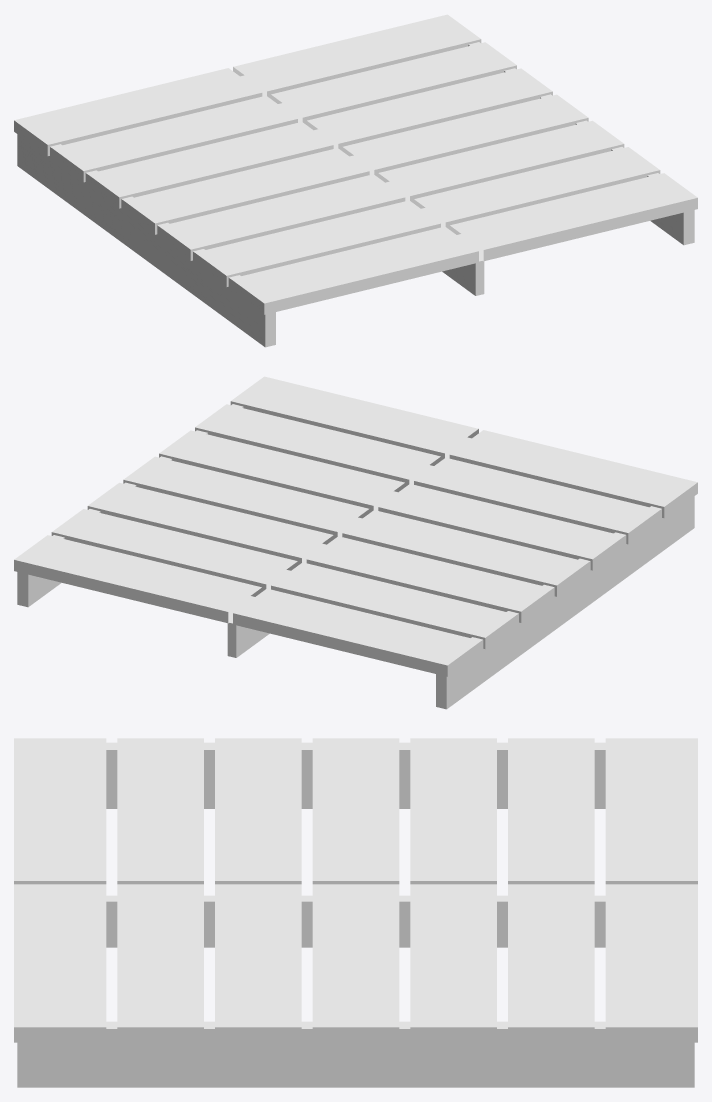
The model's file is Wood_Plank - Copy.fbx.
3 views of the same model, one above another, from view 1: azimuth 30°, elevation 25°; view 2: azimuth 150°, elevation 25°; view 3: azimuth 270°, elevation 25° (orthographic). The views are drawn at different scales.
Visible parts, largest first — view 1: Cube; view 2: Cube; view 3: Cube.
Boxes of the visible parts, x1,y1,x2,y2 form: Cube: [14, 14, 697, 347]; Cube: [14, 376, 697, 709]; Cube: [14, 738, 697, 1087].
Size of the model in its own units: 200 by 20 by 200.
